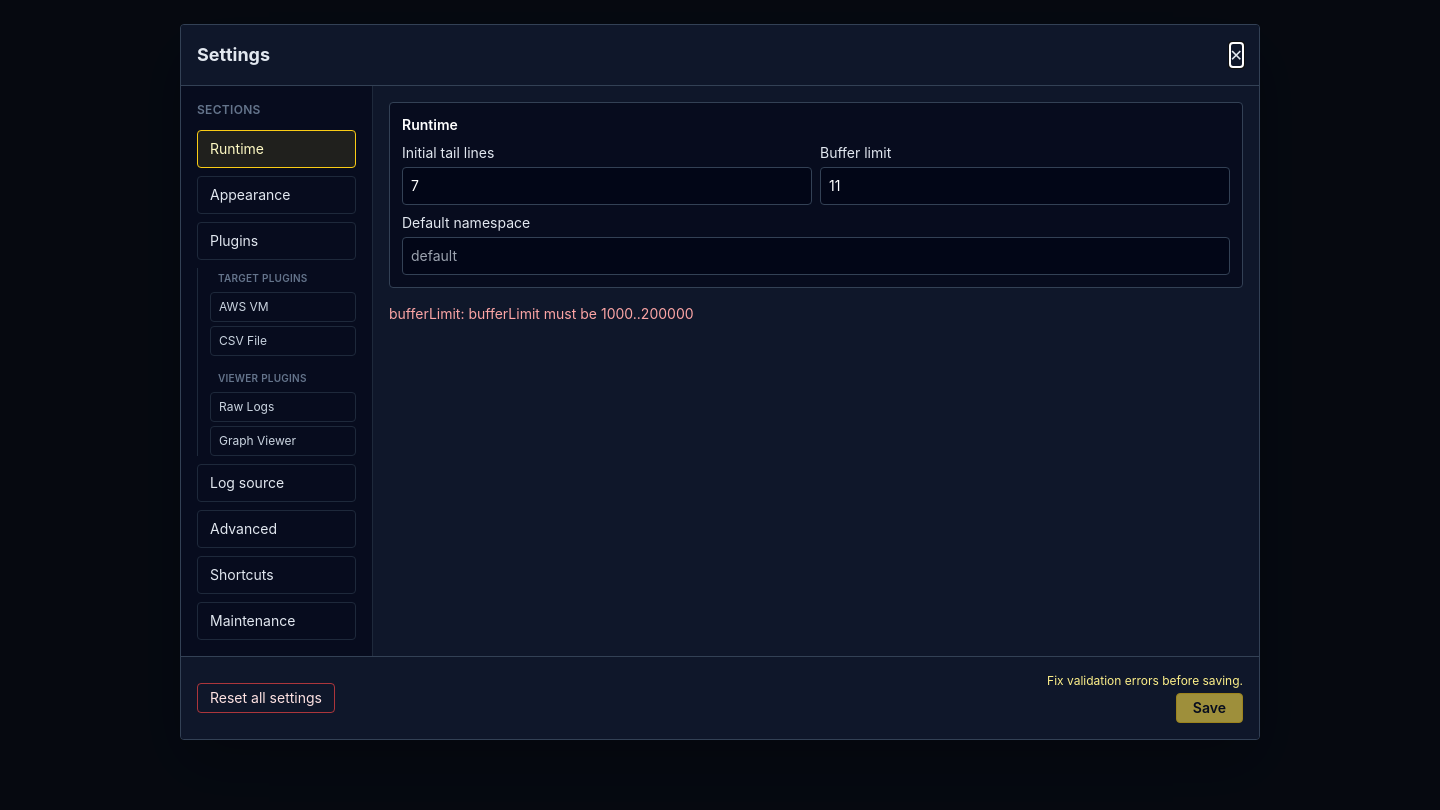
Test: button action settings and stream batches › makes Reset visibly update the draft and show feedback
Expected: the number field labelled "Initial tail lines" holds "7", [402,167,812,205]
Step 1. Click the button "Reset all settings" → click(266, 698), box [197,683,335,713]
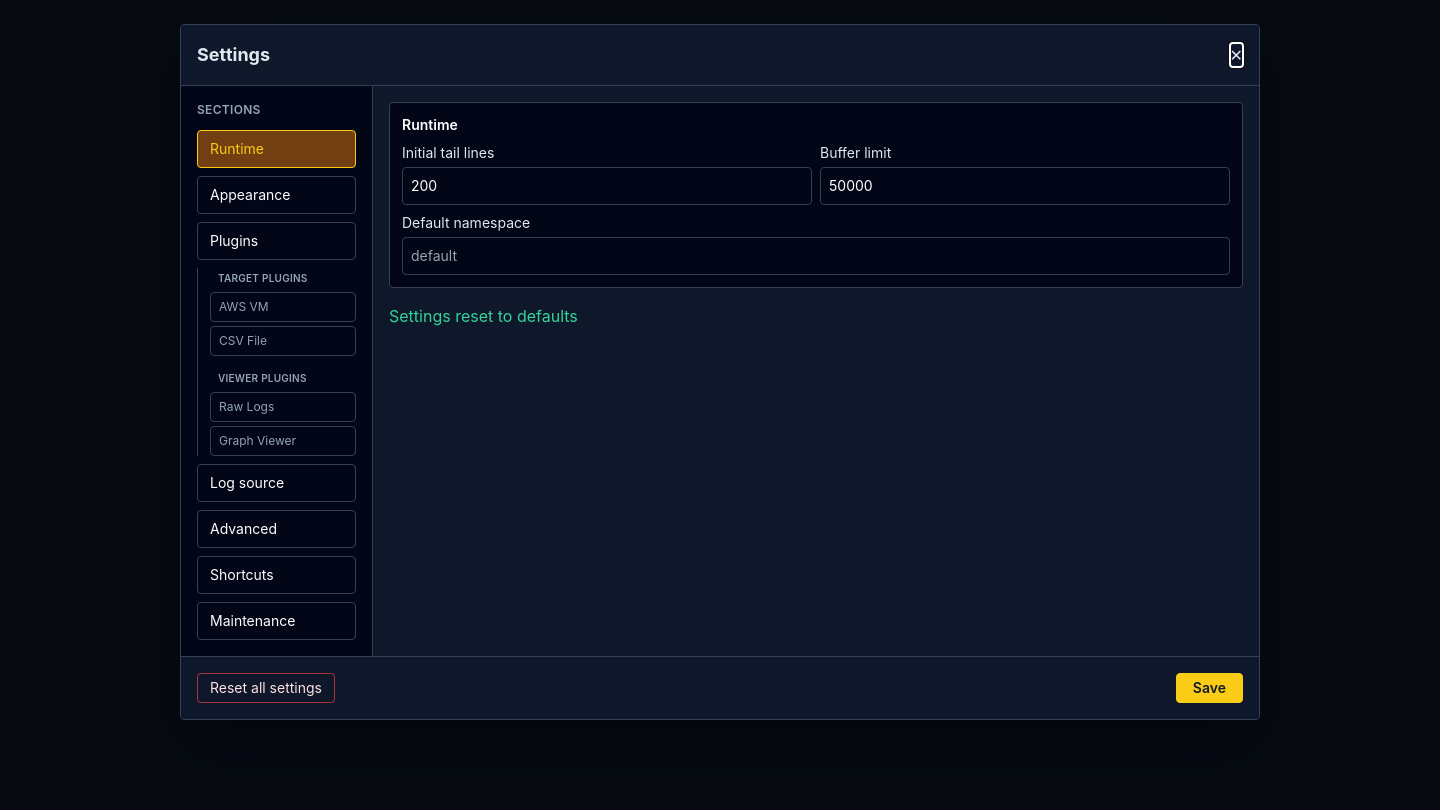
Now the number field labelled "Initial tail lines" holds "200", box [402,167,812,205]
Now the text "Settings reset to defaults" is shown, box [389,306,578,326]
